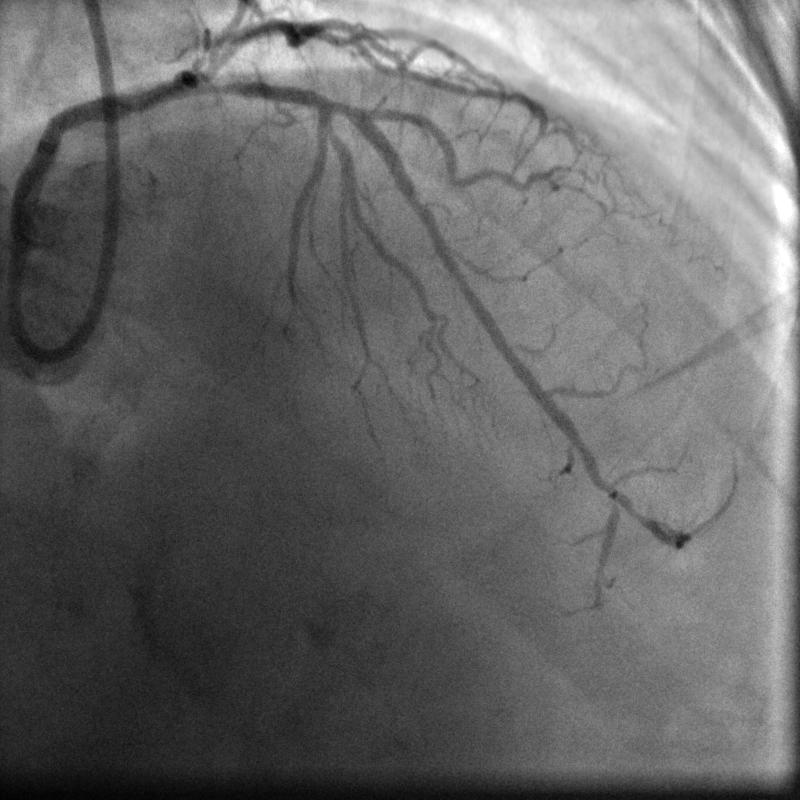Stenosis: (193, 77, 261, 105)
